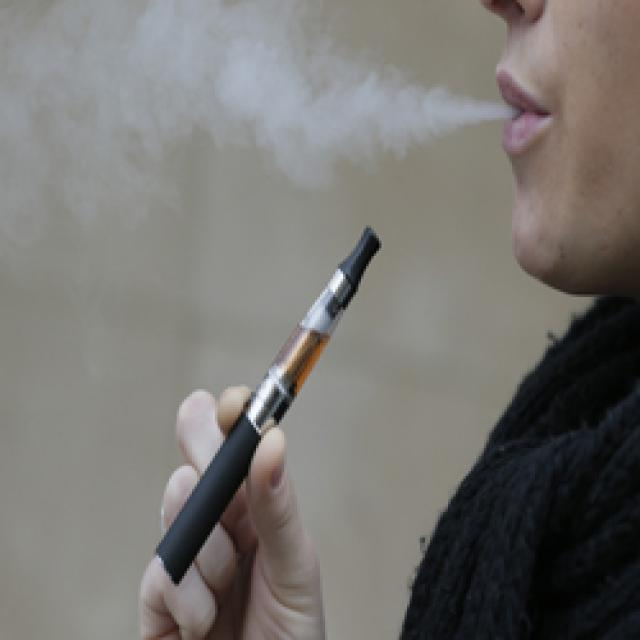Smooking: (105, 184, 417, 640)
